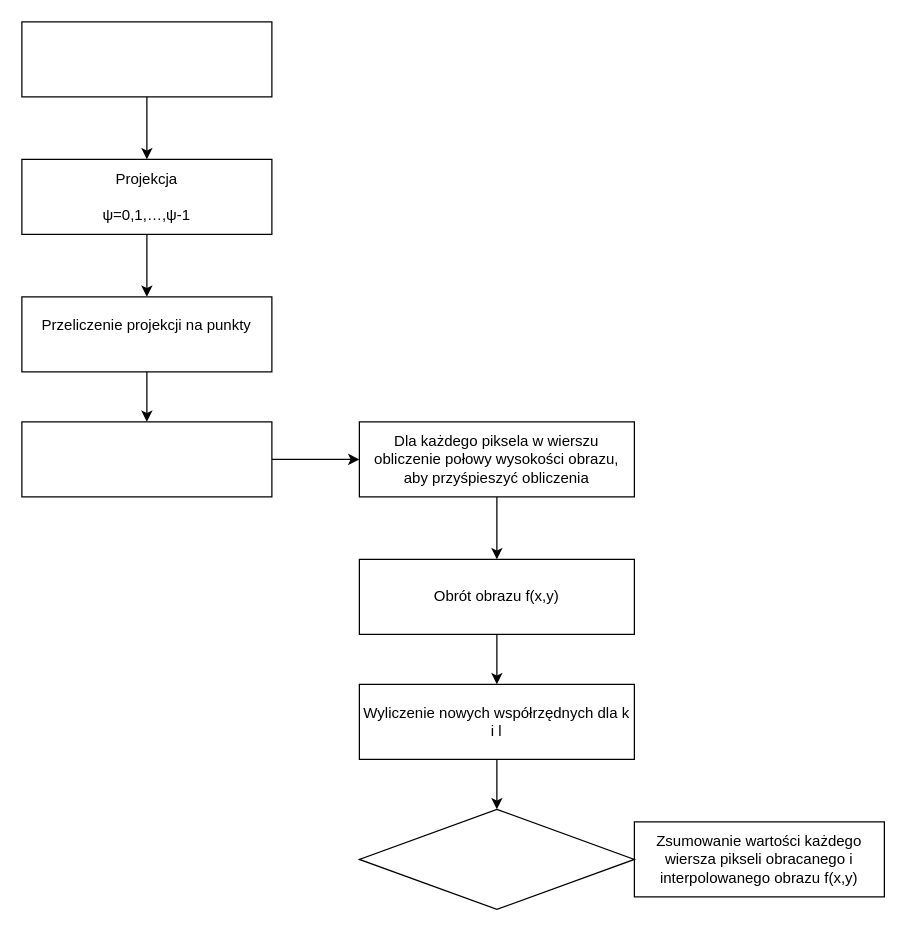
This 906x931 diagram has some shape labels left out. The centre of each missing label's shape, as x and y in pixels:
Czy współrzędne wykraczają poza obraz?: [496,858]
Pobranie danych wejściowych: [146,59]
Transformata Fouriera: [146,459]
